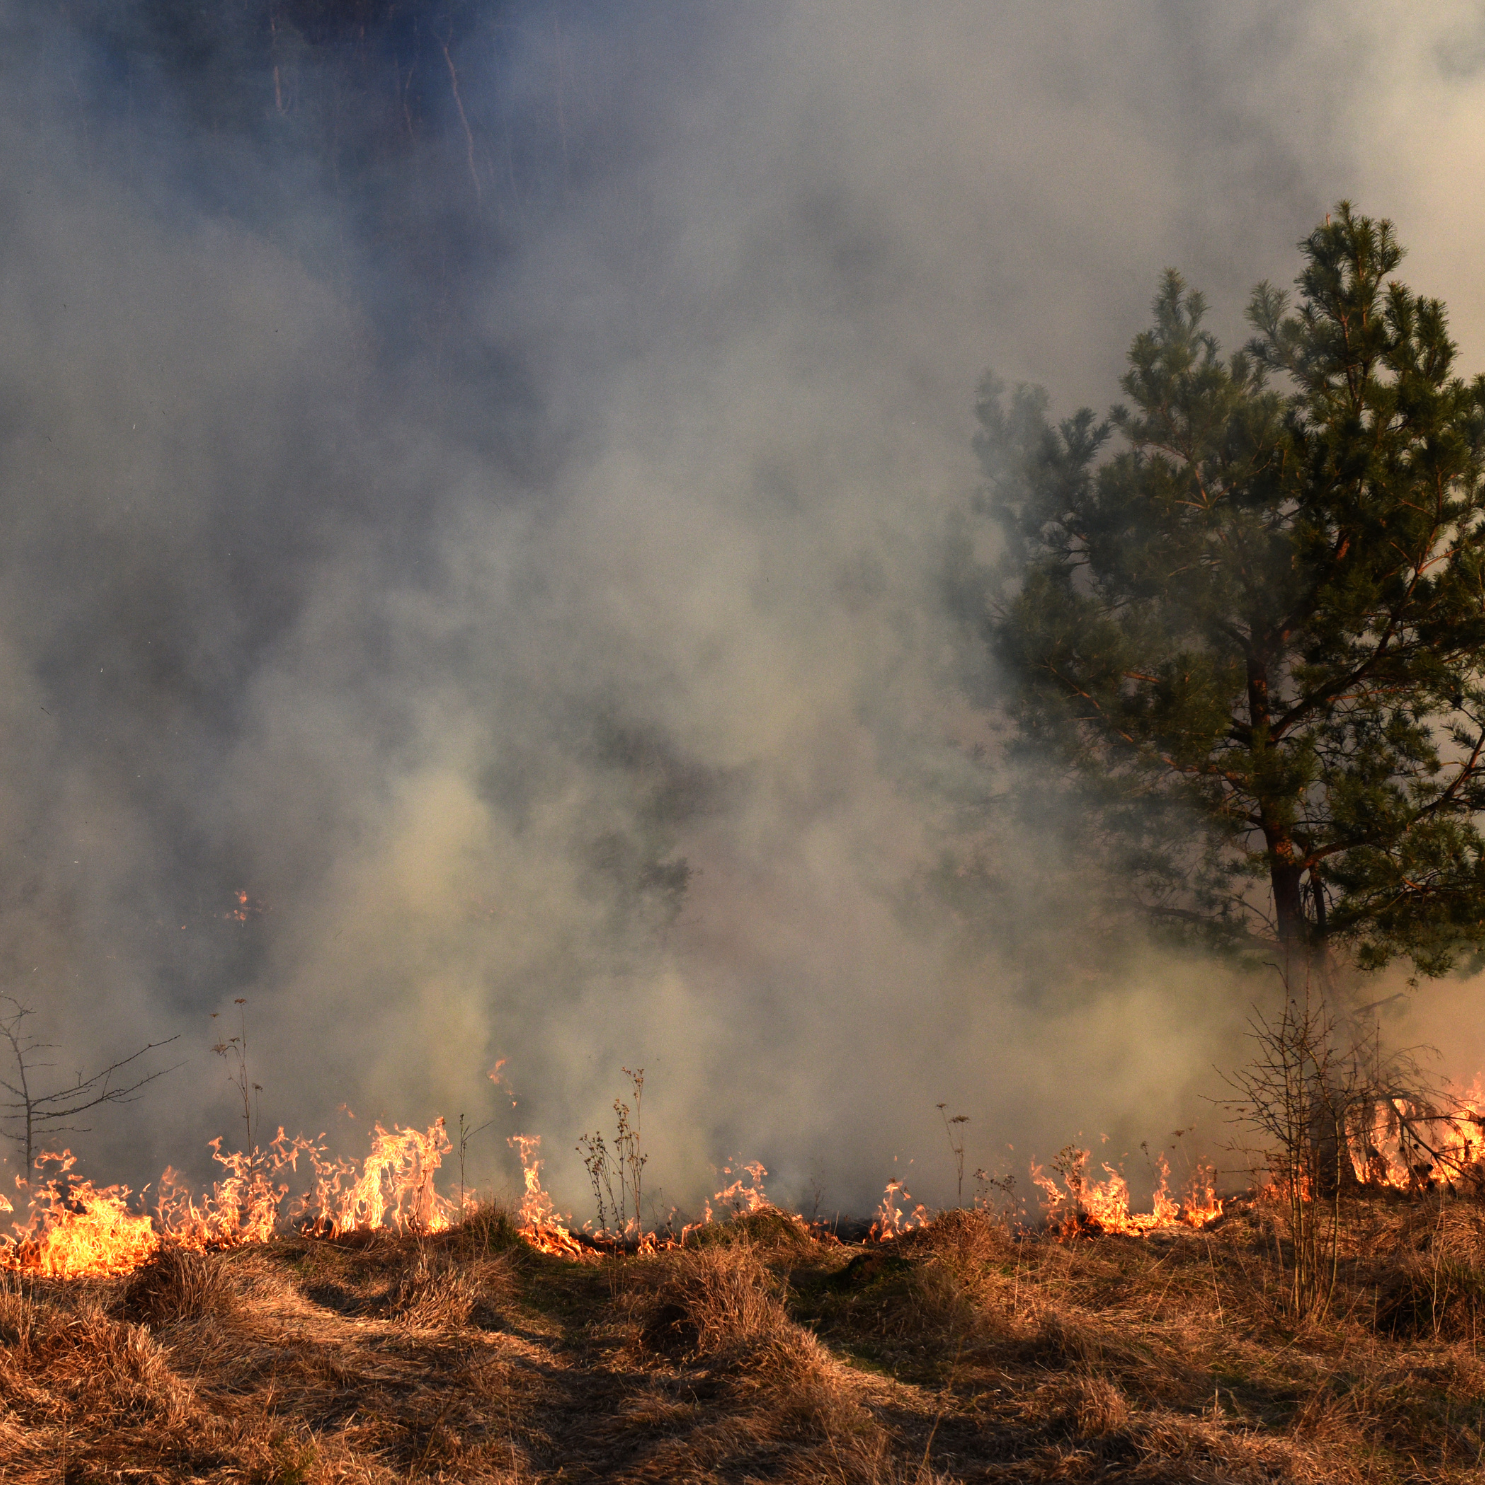fire: (156, 836, 1289, 1247), (1, 1023, 725, 1348), (680, 1005, 1485, 1257)
